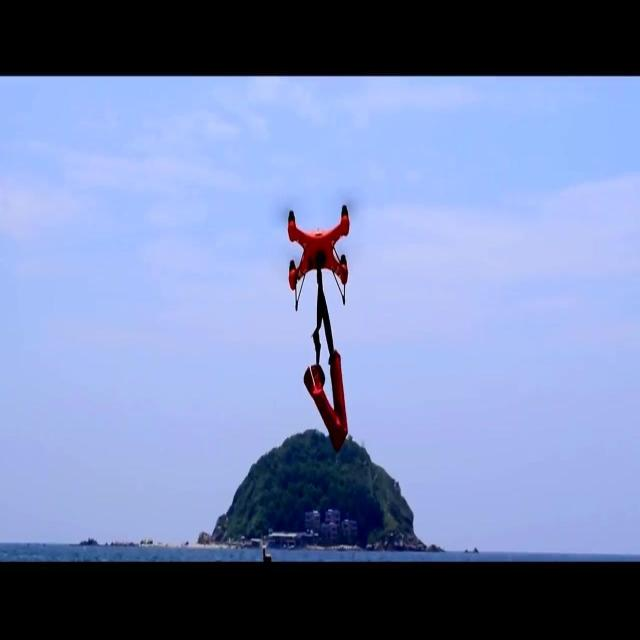drone: (286, 202, 356, 312)
